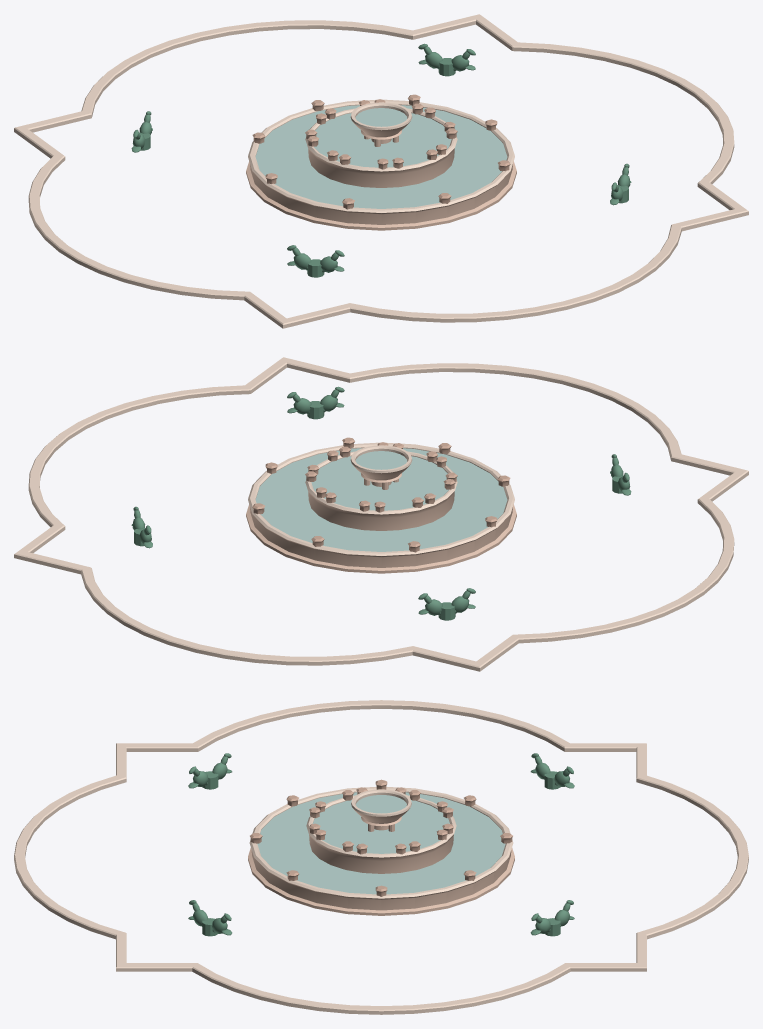
The picture shows the model from 3 angles, top to bottom: view 1: azimuth 30°, elevation 25°; view 2: azimuth 150°, elevation 25°; view 3: azimuth 270°, elevation 25°; orthographic projection.
Visible parts, largest first — view 1: buckingham-fountain; view 2: buckingham-fountain; view 3: buckingham-fountain.
Boxes of the visible parts, <box> form: buckingham-fountain: <box>14,14,748,328</box>; buckingham-fountain: <box>14,357,748,671</box>; buckingham-fountain: <box>14,700,748,1014</box>.
Size of the model in its own units: 88 by 7.6 by 88.
